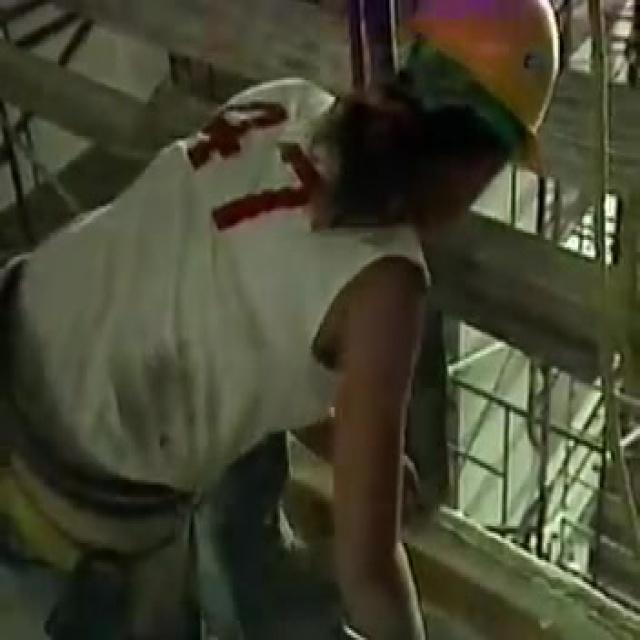helmet: (408, 0, 563, 204)
